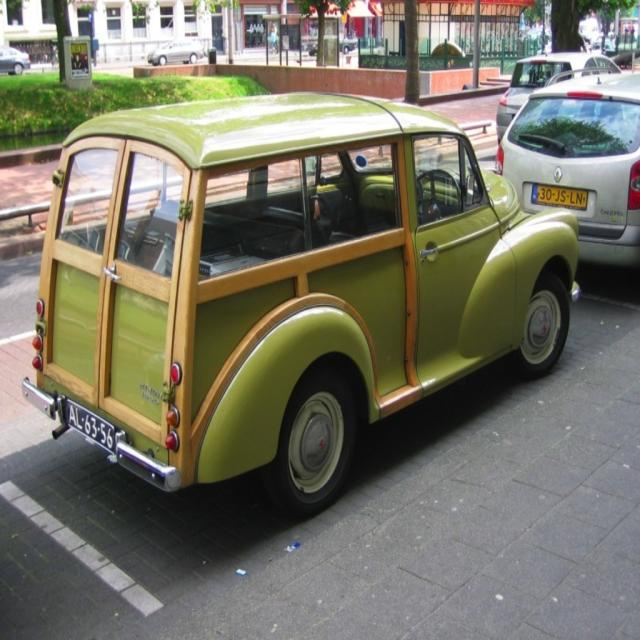car: (20, 89, 581, 518), (146, 35, 204, 65)
